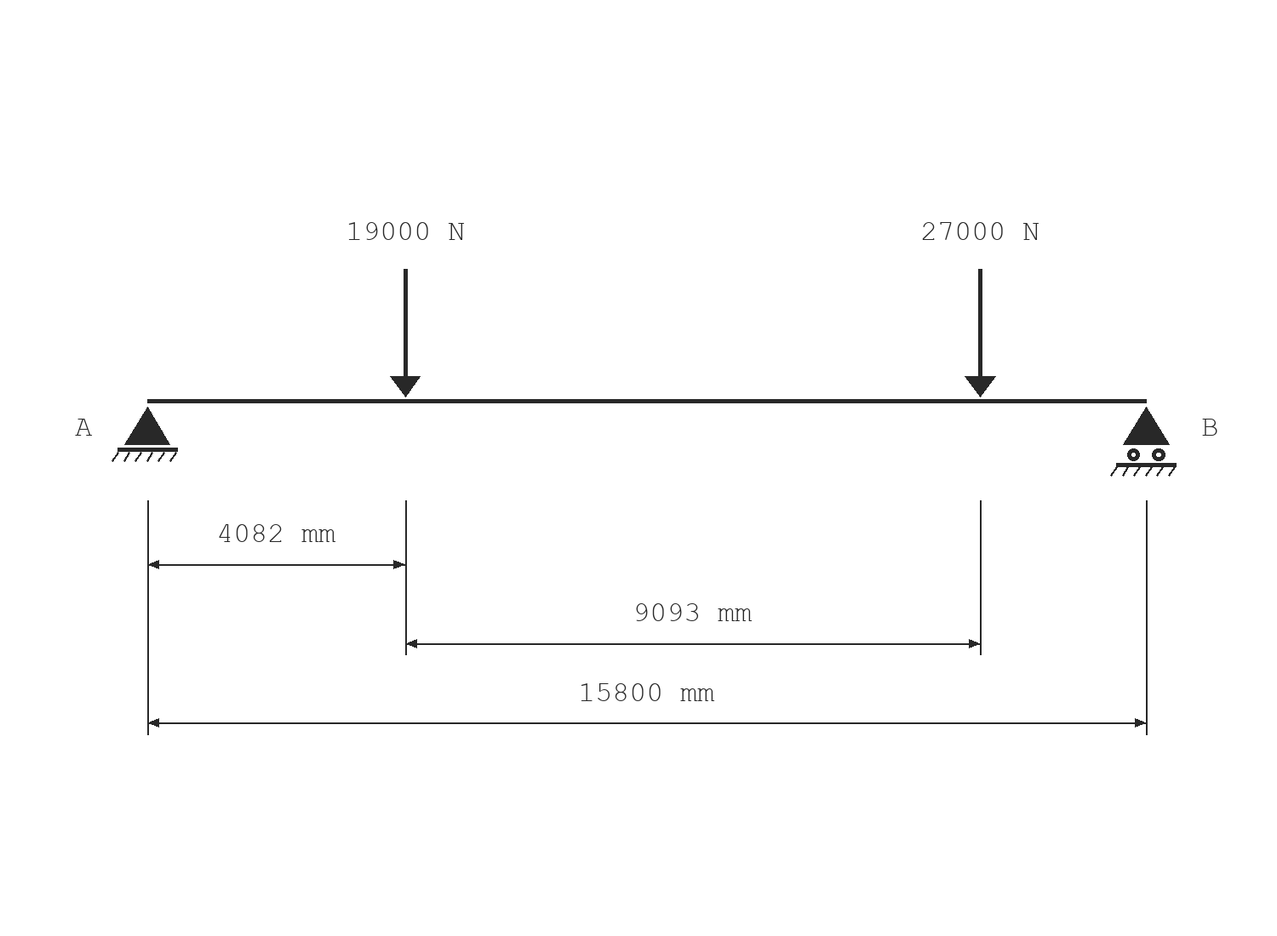pin_support: (112, 407, 178, 462)
point_load: (390, 269, 421, 397), (965, 269, 996, 397)
roller_support: (1110, 407, 1177, 477)
